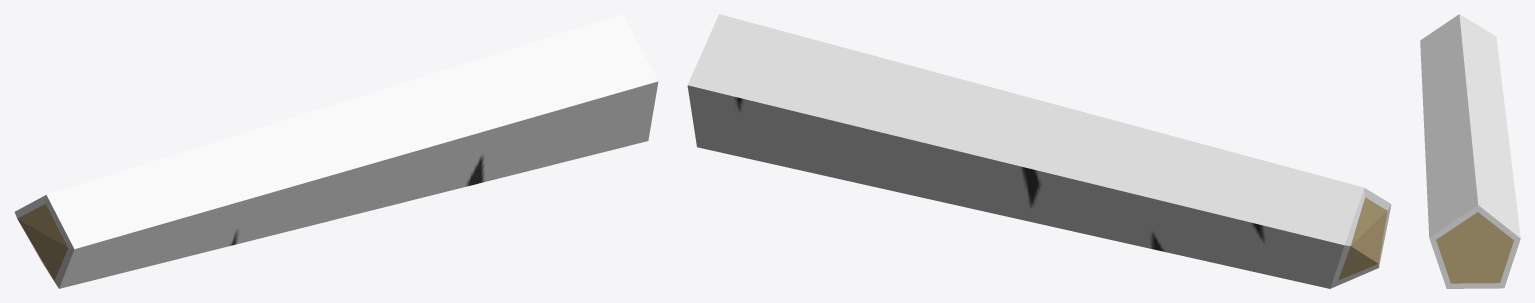
Rendered from Birch_Log_Snow_04.fbx.
The picture shows the model from 3 angles, left to right: view 1: azimuth 30°, elevation 25°; view 2: azimuth 150°, elevation 25°; view 3: azimuth 270°, elevation 25°; orthographic projection. The views are drawn at different scales.
Visible parts, largest first — view 1: Birch_Log_Snow_04; view 2: Birch_Log_Snow_04; view 3: Birch_Log_Snow_04.
Boxes of the visible parts, <box> form: Birch_Log_Snow_04: <box>14,14,658,288</box>; Birch_Log_Snow_04: <box>687,14,1391,288</box>; Birch_Log_Snow_04: <box>1420,14,1520,288</box>.
Bounding box in the file's own units: 169 × 30.15 × 33.35.
